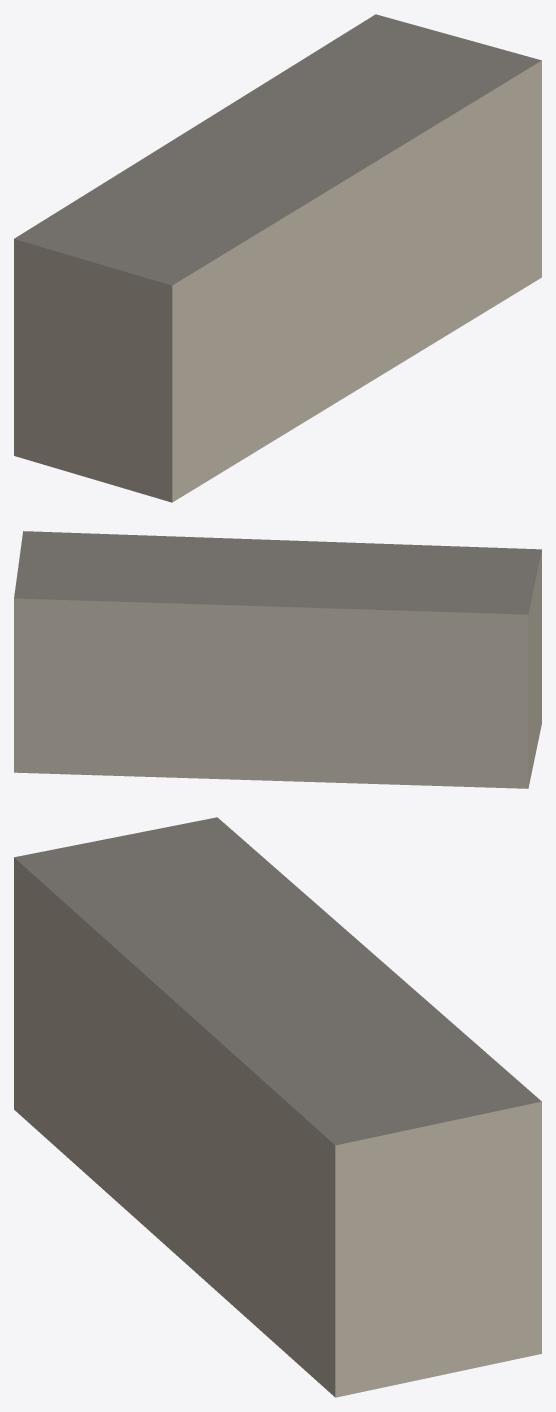
The picture shows the model from 3 angles, top to bottom: view 1: azimuth 30°, elevation 25°; view 2: azimuth 150°, elevation 25°; view 3: azimuth 270°, elevation 25°; orthographic projection. The views are drawn at different scales.
Parts seen in each view (by area): view 1: HP-w505633429; view 2: HP-w505633429; view 3: HP-w505633429.
Boxes of the visible parts, x1,y1,x2,y2 form: HP-w505633429: [14, 14, 541, 502]; HP-w505633429: [14, 531, 541, 788]; HP-w505633429: [14, 817, 541, 1397].
Size of the model in its own units: 33.48 by 12 by 22.76.
